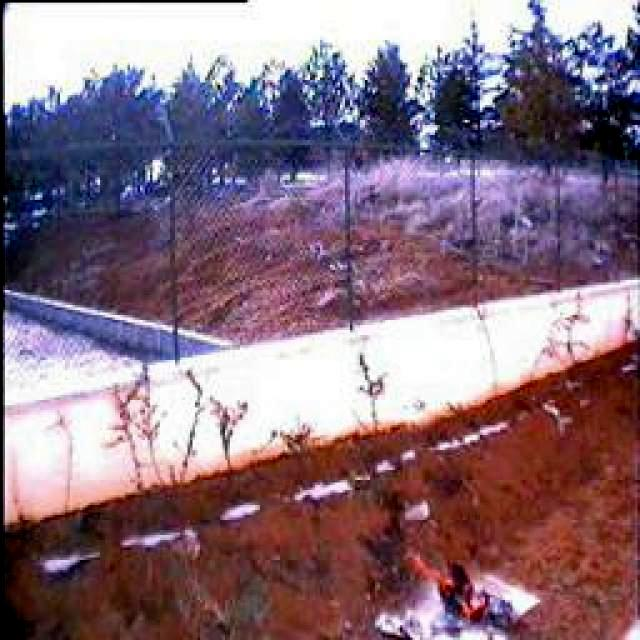fire: (403, 542, 503, 622)
